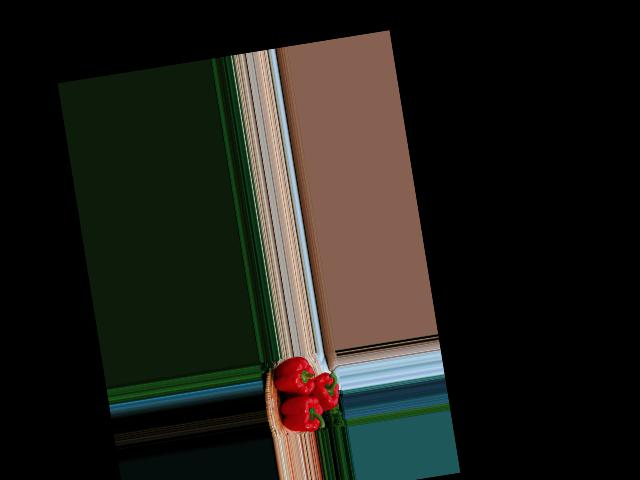bell_pepper: (272, 387, 326, 436)
